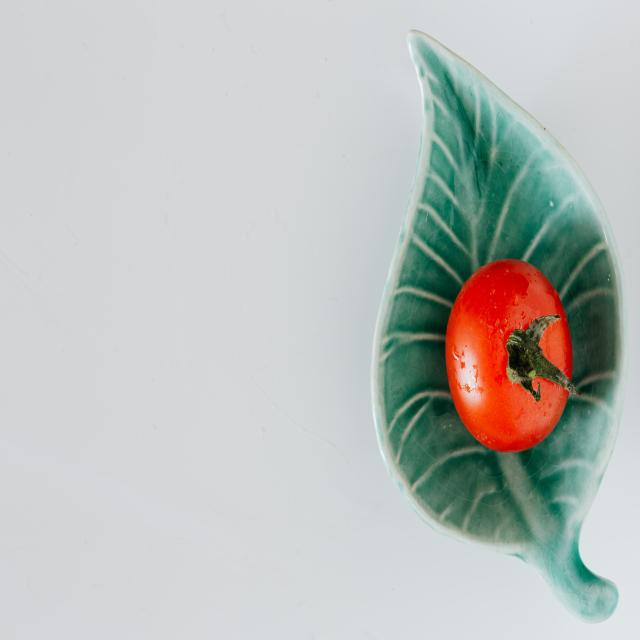Tomato: (447, 259, 580, 463)
